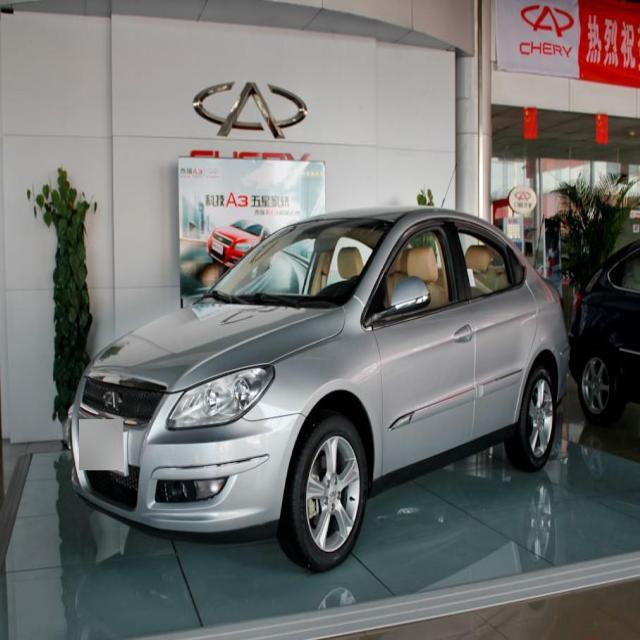door: (446, 220, 540, 437)
front_bumper: (66, 404, 307, 539)
front_glass: (204, 214, 396, 308)
front_left_side_door: (368, 217, 477, 480)
front_left_side_light: (164, 360, 277, 431)
front_left_side_mirror: (392, 274, 432, 316)
wheel: (291, 416, 367, 568), (505, 365, 556, 471)
